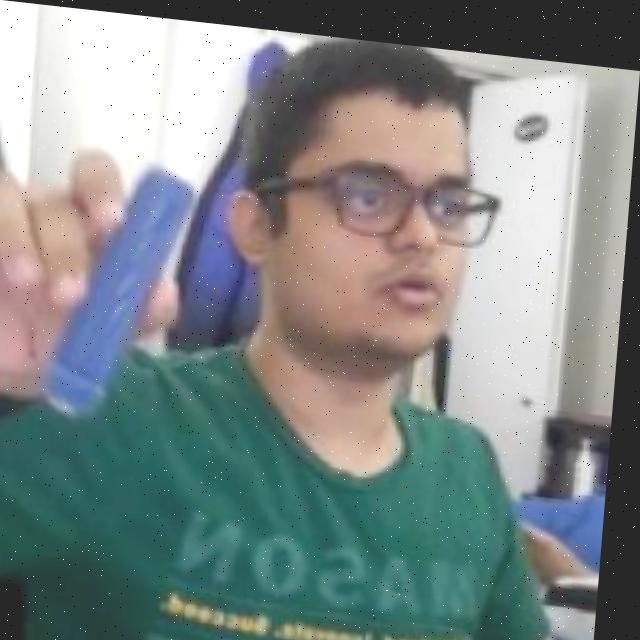vape: (51, 151, 202, 420)
